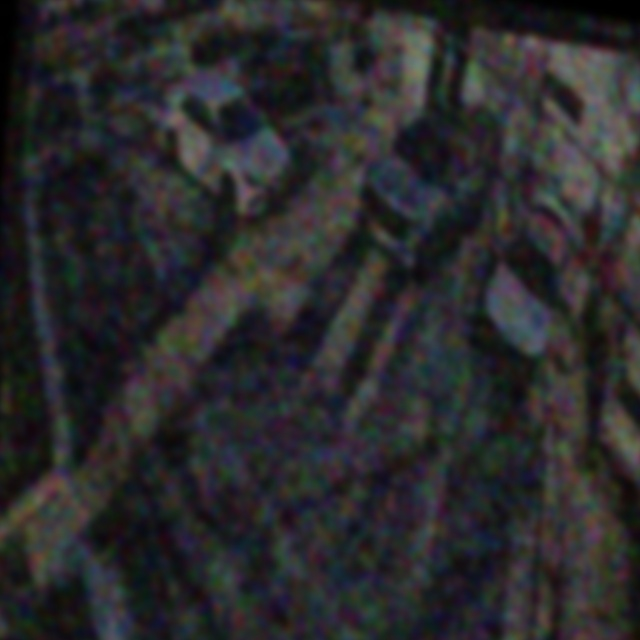Car: (349, 83, 506, 292), (471, 177, 584, 400), (150, 64, 302, 222)
